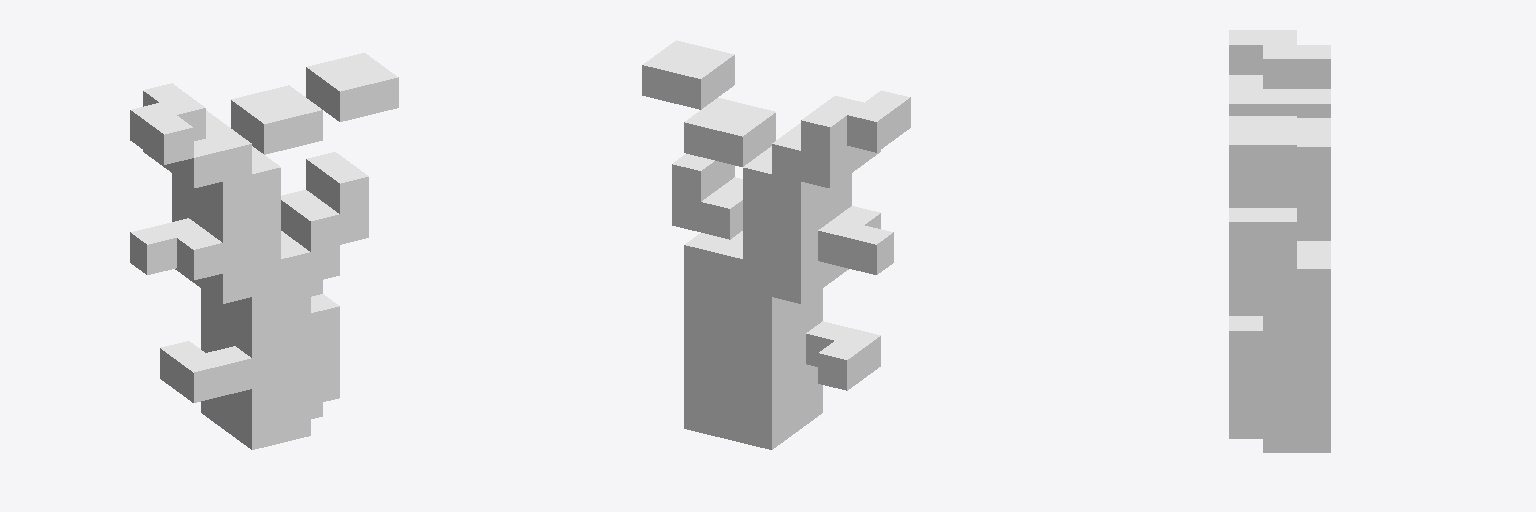
The model's file is bush2.obj.
The picture shows the model from 3 angles: view 1: azimuth 30°, elevation 25°; view 2: azimuth 150°, elevation 25°; view 3: azimuth 270°, elevation 25°; orthographic projection.
Visible parts, largest first — view 1: object 1; view 2: object 1; view 3: object 1.
Boxes of the visible parts, box(x1,y1,x2,y2) form: object 1: box(130, 53, 398, 449); object 1: box(642, 40, 910, 449); object 1: box(1229, 30, 1330, 452).
Size of the model in its own units: 0.8 by 1.1 by 0.3.